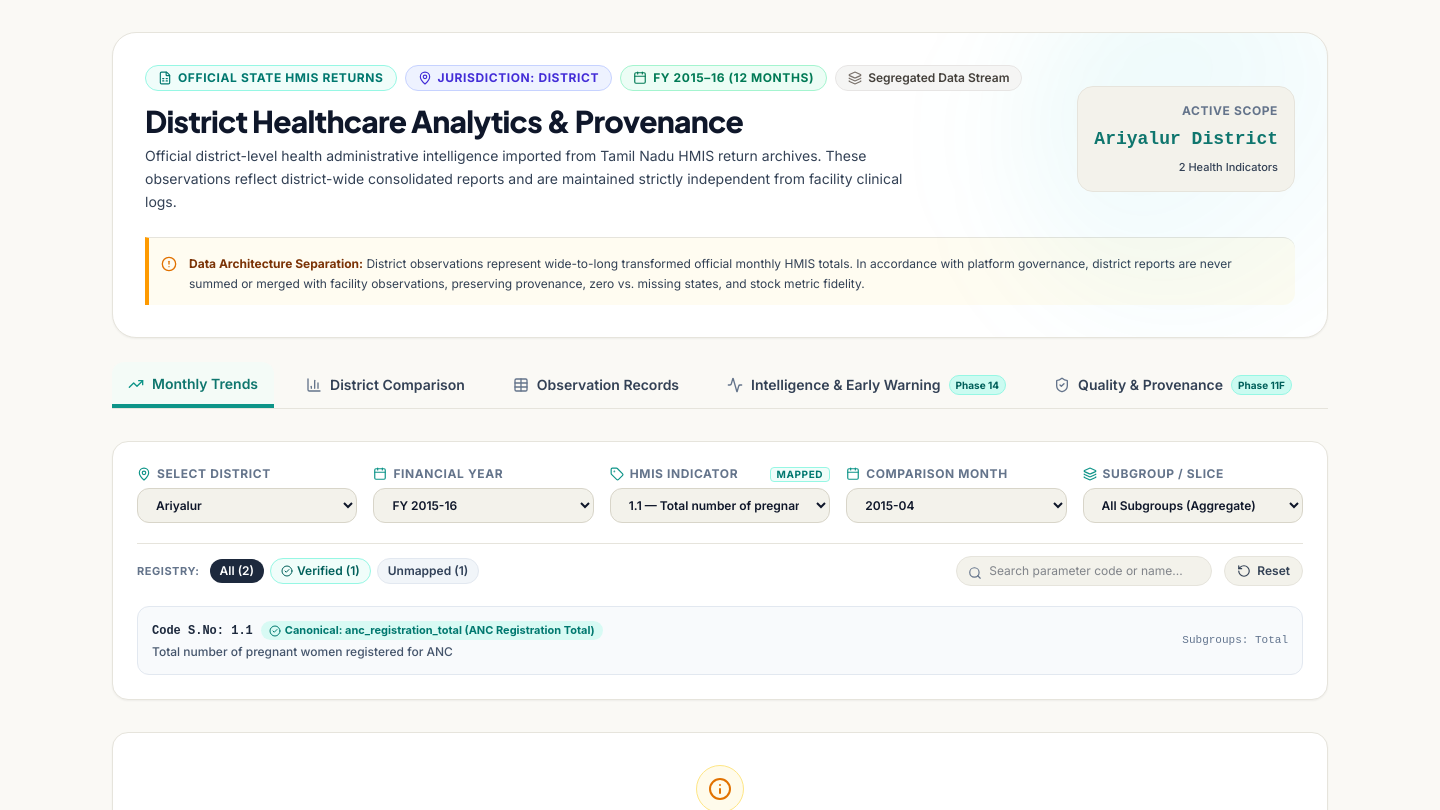
Test: DistrictsPage Component (Phases 11E–12E) › switches to Intelligence & Early Warning tab and renders readiness and anomalies
The width and height of the screenshot is (1440, 810).
Expected: the text "Intelligence & Early Warning" is shown, x1=751 y1=375 x2=941 y2=395
Click the button "Intelligence & Early Warning Phase 14".
click(867, 385)  # box x1=711 y1=362 x2=1022 y2=408
(page scrolled)
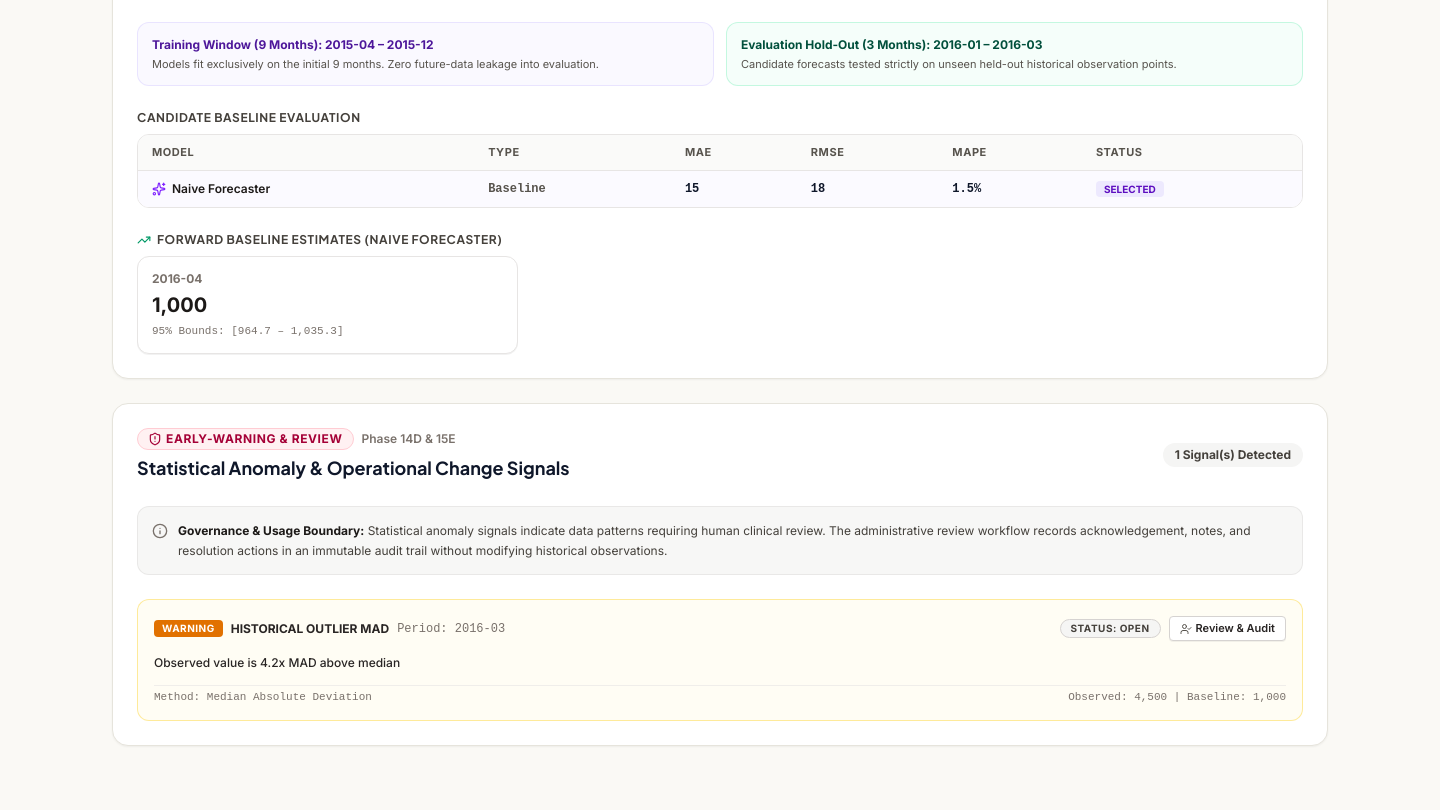
Now the heading "Statistical Anomaly & Operational Change Signals" is shown, box x1=137 y1=454 x2=570 y2=482
Now the text "HISTORICAL OUTLIER MAD" is shown, box x1=231 y1=621 x2=389 y2=637
Now the text "Review & Audit" is shown, box x1=1196 y1=622 x2=1275 y2=636
